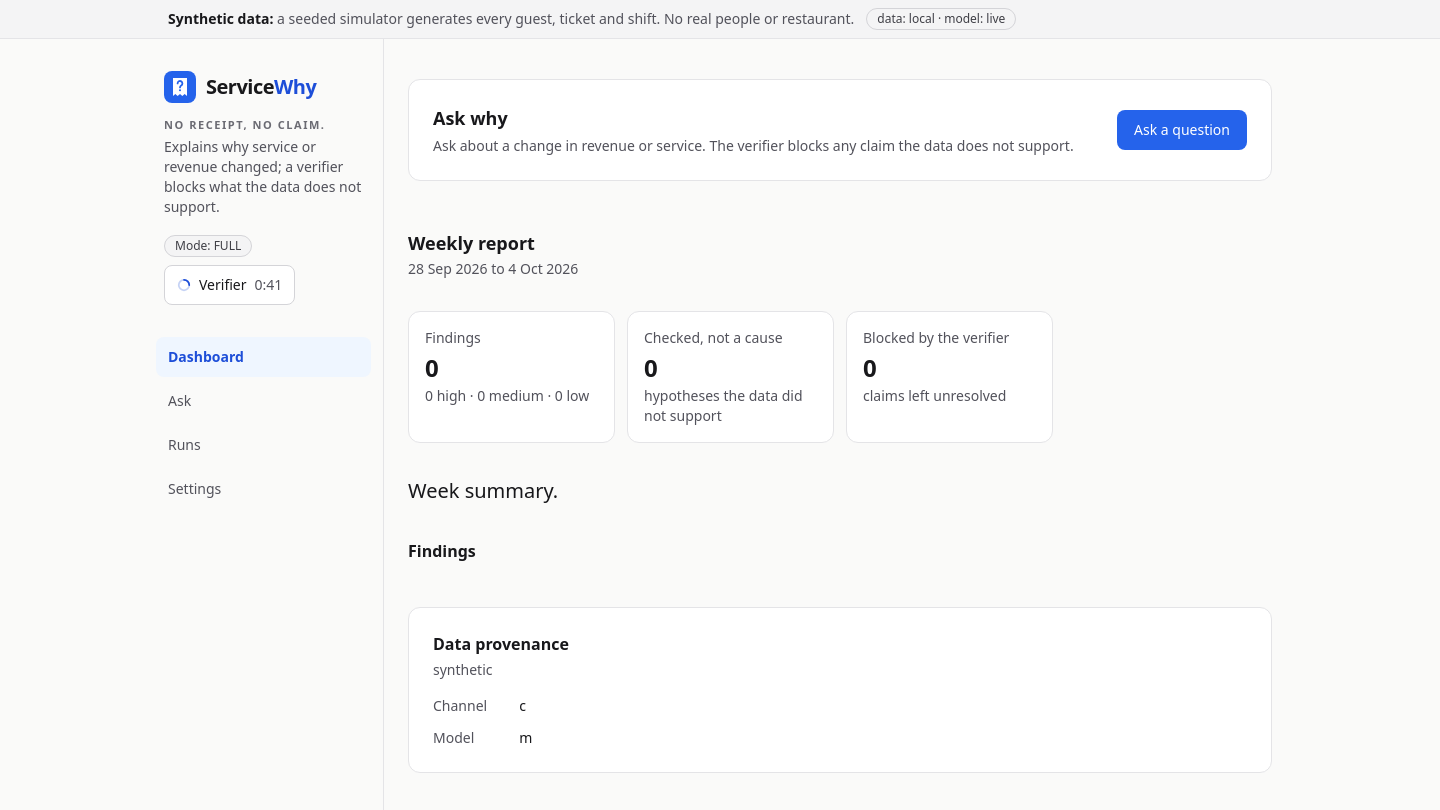
Test: the feed prints agent, action and summary, marks block and retry, and keeps the newest 12 lines
Click the button with test id "activity-pill" at (230, 285), box [164,265,295,305]
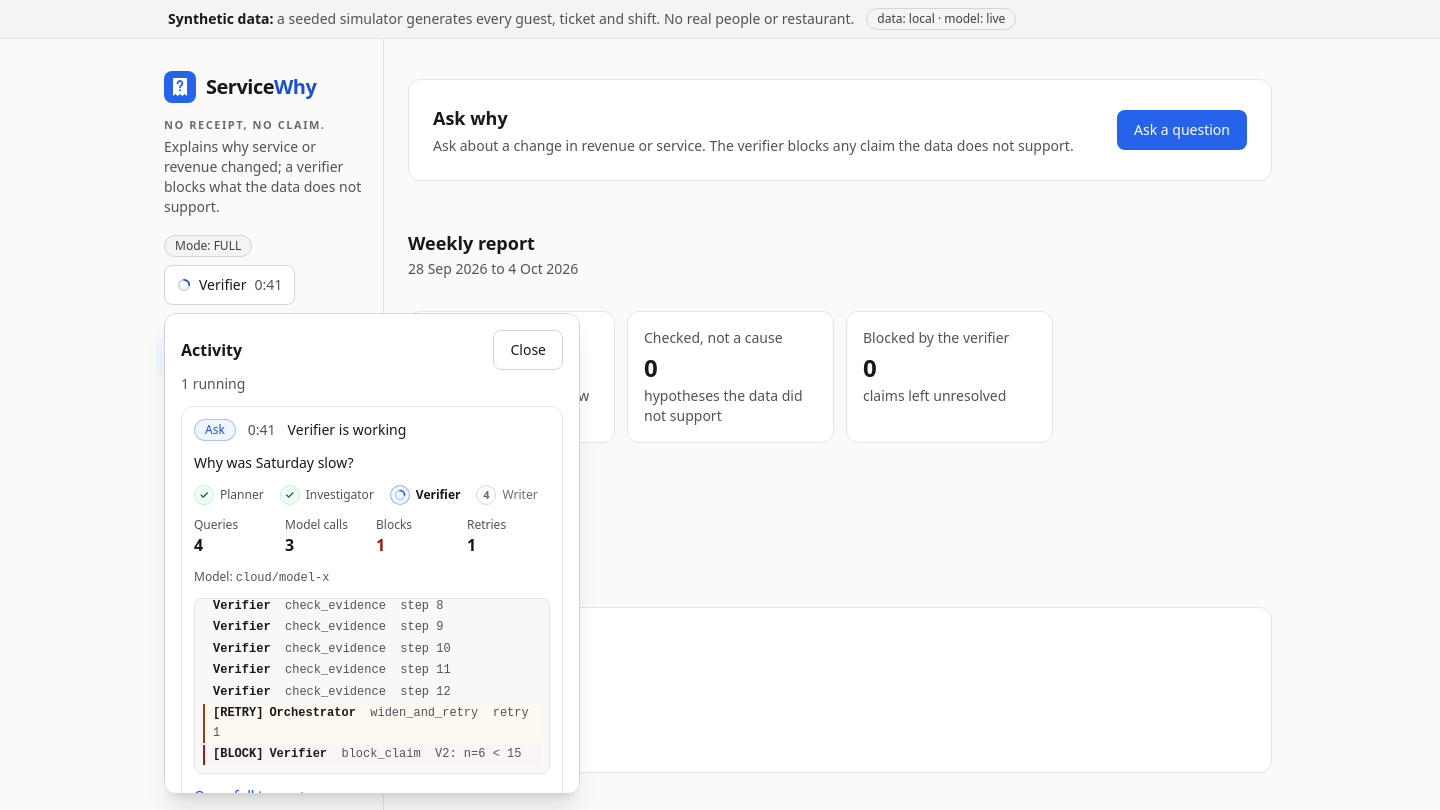
expect the list item "[retry]Orchestrator widen_and_retry retry 1" is shown: met, box [203,704,541,743]
expect the list item "[block]Verifier block_claim V2: n=6 < 15" is shown: met, box [203,745,541,764]
